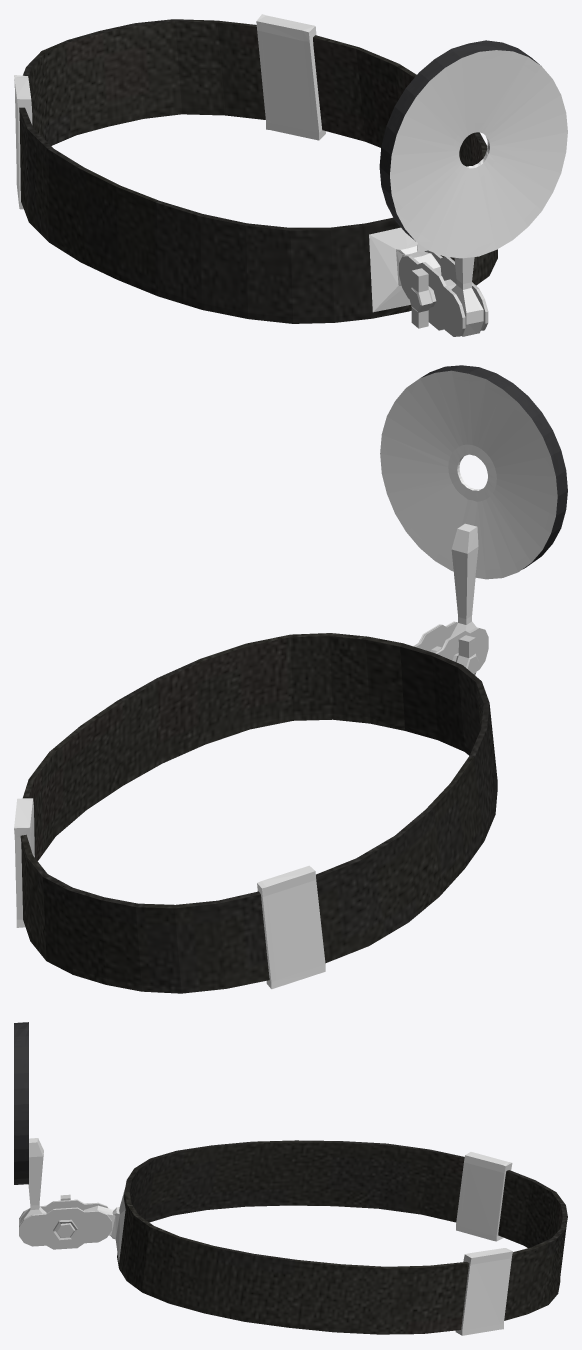
File: mhw_punkduck_head_mirror.glb
3 renders of one model, top to bottom at view 1: azimuth 30°, elevation 25°; view 2: azimuth 150°, elevation 25°; view 3: azimuth 270°, elevation 25°, orthographic. The views are drawn at different scales.
Parts seen in each view (by area): view 1: mhw_punkduck_head_mirror; view 2: mhw_punkduck_head_mirror; view 3: mhw_punkduck_head_mirror.
Part boxes in pixels (left/top/right/bottom): mhw_punkduck_head_mirror: left=14, top=14, right=567, bottom=336; mhw_punkduck_head_mirror: left=14, top=365, right=567, bottom=993; mhw_punkduck_head_mirror: left=14, top=1022, right=567, bottom=1335.
Size of the model in its own units: 0.1548 by 0.1439 by 0.2832.
1 material, 1 textured.
